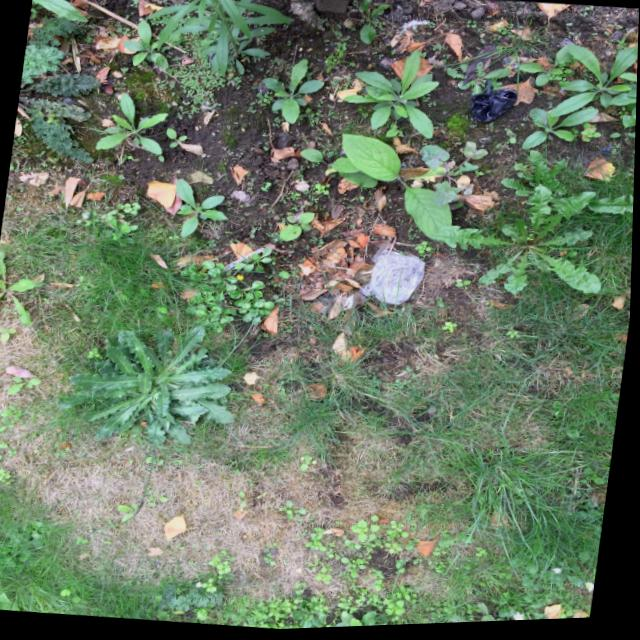Plastic: (356, 245, 432, 314), (463, 77, 525, 132)
